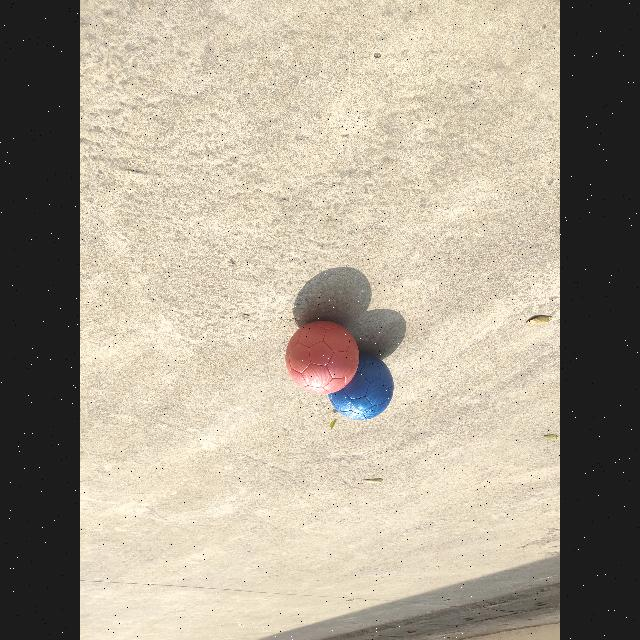B: (328, 351, 394, 420)
R: (285, 320, 359, 394)
